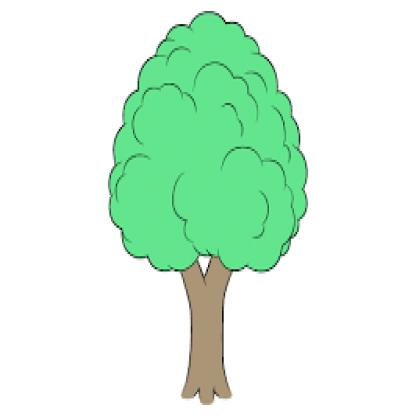branch_cut: (178, 250, 236, 296)
crown_cloud: (107, 9, 309, 274)
root_only: (176, 378, 240, 408)
trunk_straight: (182, 307, 230, 367)
